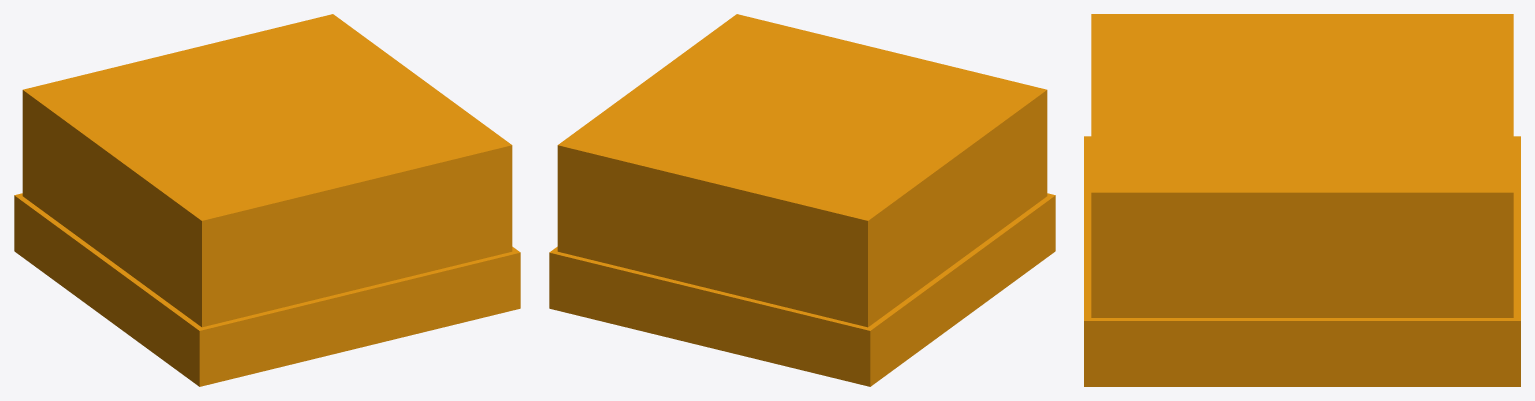
Rendered from accessory_beanie.glb.
3 views of the same model, side by side, from view 1: azimuth 30°, elevation 25°; view 2: azimuth 150°, elevation 25°; view 3: azimuth 270°, elevation 25° (orthographic). The views are drawn at different scales.
Visible parts, largest first — view 1: beanie_crown, beanie_band; view 2: beanie_crown, beanie_band; view 3: beanie_crown, beanie_band.
Boxes of the visible parts, bbox=[...] form: beanie_crown: bbox=[22, 14, 512, 327]; beanie_band: bbox=[14, 193, 520, 386]; beanie_crown: bbox=[557, 14, 1047, 327]; beanie_band: bbox=[549, 193, 1055, 386]; beanie_crown: bbox=[1091, 14, 1513, 317]; beanie_band: bbox=[1084, 136, 1520, 386].
Bounding box in the file's own units: 0.3 × 0.145 × 0.3.
